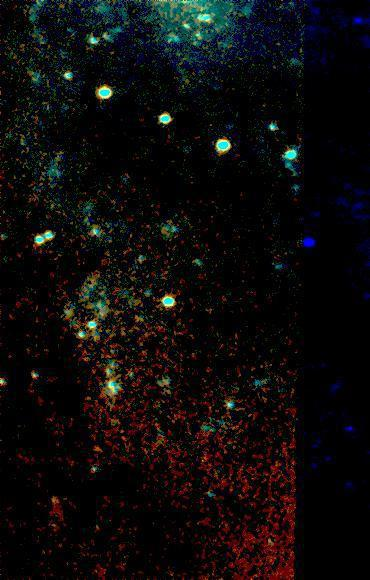star: (73, 432, 103, 462)
